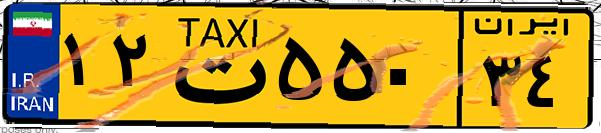0: (385, 28, 445, 110)
1: (57, 26, 110, 100)
2: (110, 28, 158, 98)
3: (475, 38, 525, 113)
4: (525, 38, 570, 115)
5: (270, 28, 330, 110), (330, 28, 385, 110)
ت: (158, 12, 270, 120)
